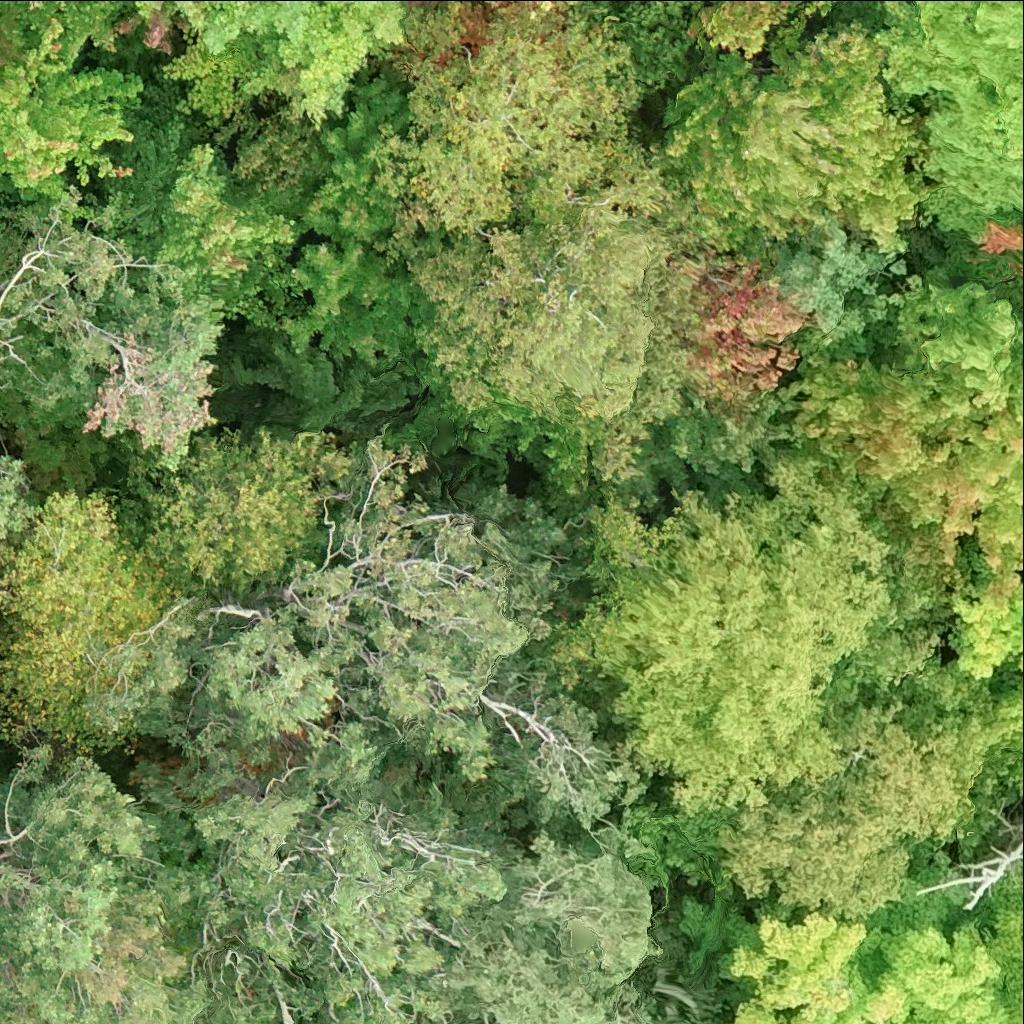crown: (93, 437, 654, 862), (195, 761, 658, 1023), (560, 454, 891, 812), (382, 201, 716, 479), (379, 0, 672, 240), (721, 707, 1017, 922), (0, 198, 229, 475), (0, 742, 205, 1023), (0, 493, 198, 762), (281, 79, 451, 391), (111, 114, 331, 334), (649, 46, 841, 277), (890, 281, 1023, 612), (131, 426, 364, 611), (144, 818, 339, 1023), (770, 16, 935, 254), (133, 0, 412, 126), (880, 0, 1023, 244), (780, 330, 949, 526), (0, 17, 142, 236), (732, 916, 1008, 1023), (686, 258, 807, 420), (945, 581, 1023, 752), (580, 0, 701, 92), (688, 0, 830, 57), (0, 0, 126, 63), (915, 845, 1023, 909), (993, 873, 1023, 1023), (0, 455, 42, 543), (440, 988, 513, 1023), (613, 973, 651, 1023)
